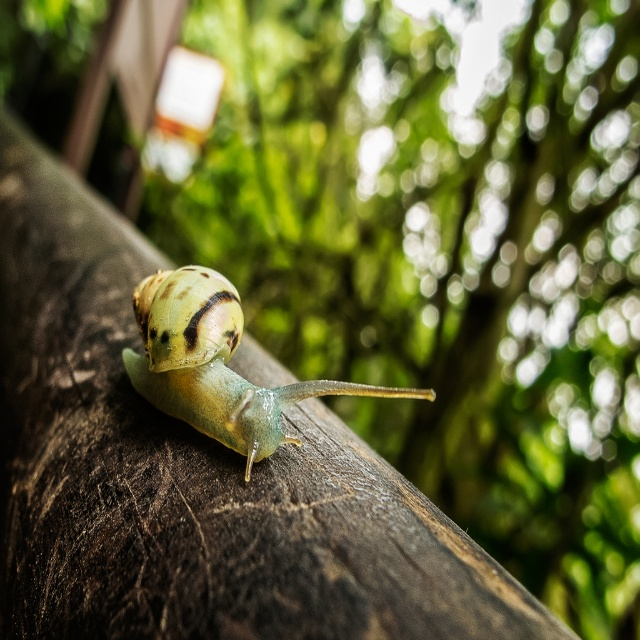Snail: (117, 261, 437, 483)
